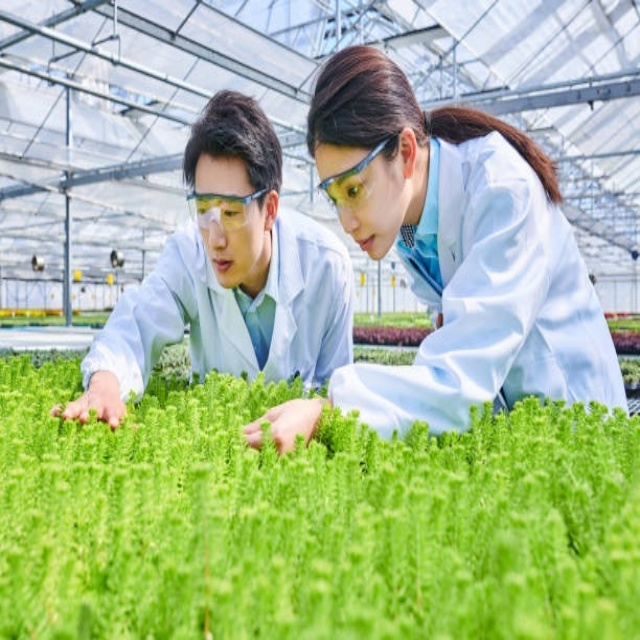Gafas: (317, 135, 398, 209), (188, 186, 269, 229)
Sin_guantes: (243, 396, 325, 456), (52, 384, 133, 429)
Sin_mascara: (206, 246, 242, 285), (350, 227, 383, 262)
